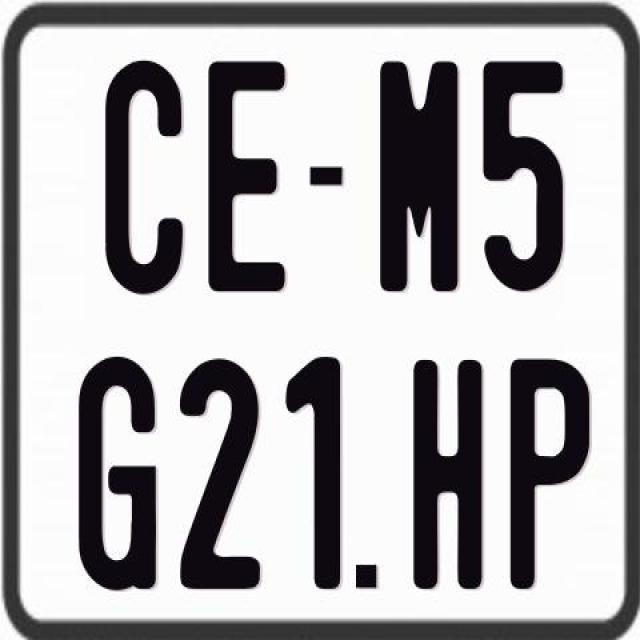1: (284, 355, 343, 592)
2: (178, 354, 266, 588)
5: (478, 58, 564, 296)
C: (102, 59, 182, 301)
E: (206, 61, 292, 294)
G: (78, 354, 158, 596)
H: (414, 356, 486, 594)
M: (378, 62, 462, 301)
P: (510, 357, 590, 586)
